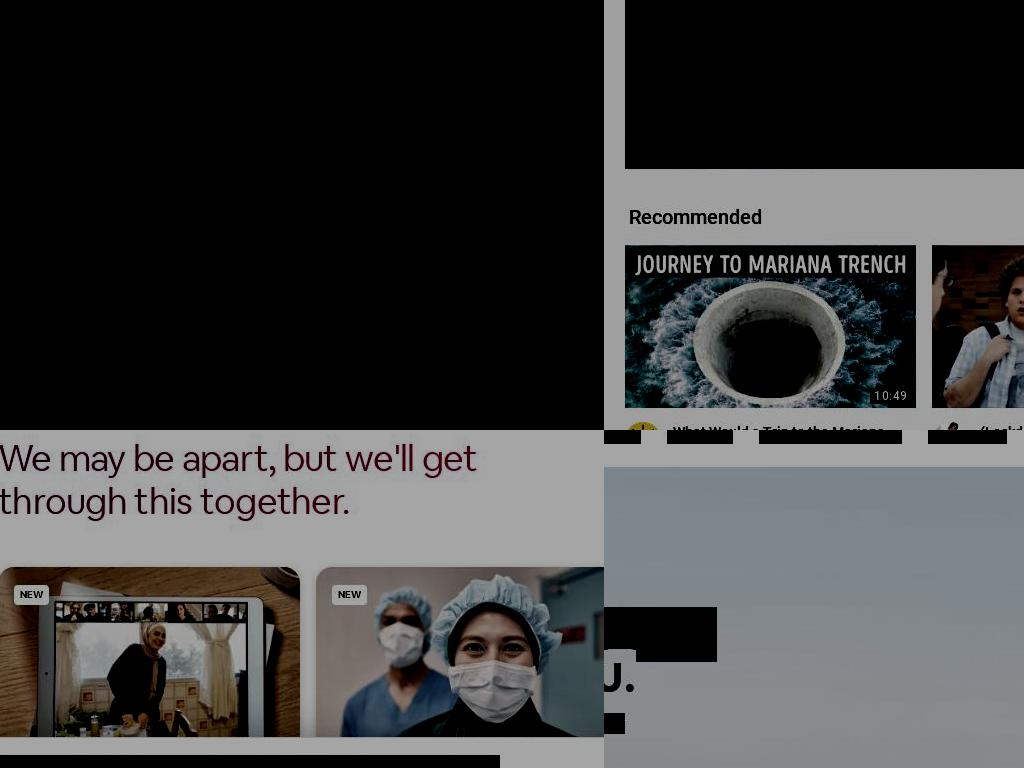button: (0, 0, 604, 430), (0, 567, 300, 768), (315, 567, 604, 768), (625, 245, 916, 409), (931, 245, 1024, 409), (759, 430, 902, 444), (928, 430, 1007, 444), (633, 137, 657, 161), (604, 430, 641, 444), (931, 422, 968, 430), (625, 422, 661, 430)
heading: (0, 435, 478, 525), (604, 607, 717, 662)
iframe: (0, 0, 604, 430), (625, 0, 1024, 169)
image: (625, 245, 916, 409), (931, 245, 1024, 409), (633, 137, 657, 161), (931, 422, 968, 430), (625, 422, 661, 430)
text: (0, 755, 500, 768), (629, 205, 762, 229), (667, 430, 733, 444), (331, 585, 367, 605), (14, 585, 49, 605), (874, 390, 908, 403)
